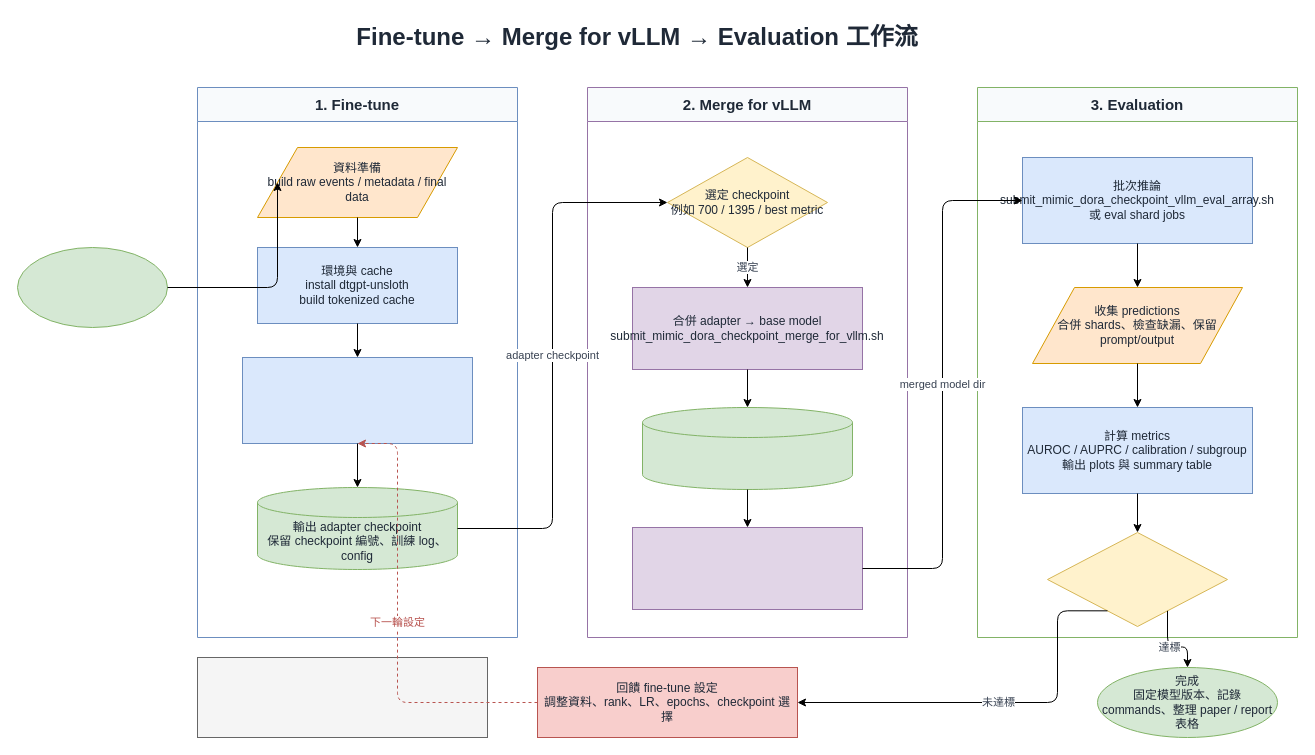
The diagram is 1315 pixels wide and 755 high, and some of its shapes have lost their labels. The centre of each missing label's shape, as x and y in pixels:
vLLM inference server / engine install dtgpt-vllm 確認 GPU memory、tensor parallel: [747,568]
停止條件：evaluation 指標達標且可重現；否則把失敗樣本、metrics、資源限制回饋到 fine-tune/merge 設定。: [342,697]
啟動 fine-tune submit_mimic_dora_r64_paper_r2_l40s.sh 或 resume / smoke variants: [357,400]
產生 vLLM 可載入目錄 merged HF weights + tokenizer + config: [747,448]
結果是否達標？ 和 baseline、上一版 checkpoint 比較: [1137,579]
開始 定義資料集、base model、LoRA/DoRA 設定: [92,287]
